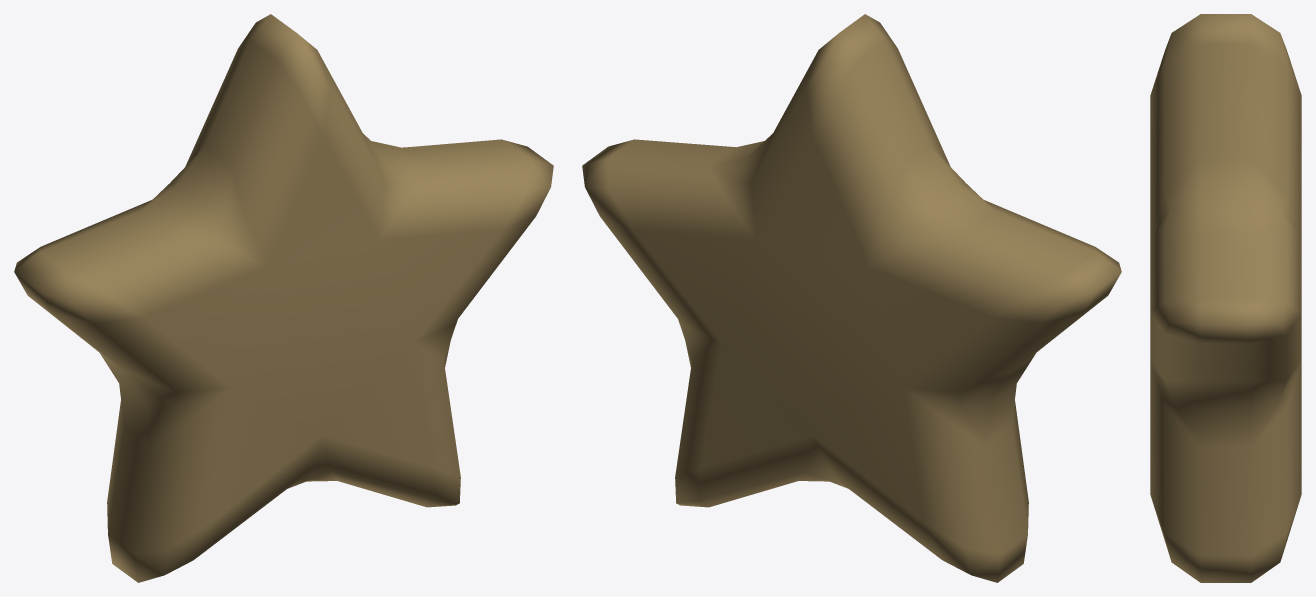
File: property_upgrade_star_atelier.glb
The picture shows the model from 3 angles, left to right: view 1: azimuth 30°, elevation 25°; view 2: azimuth 150°, elevation 25°; view 3: azimuth 270°, elevation 25°; orthographic projection. The views are drawn at different scales.
Visible parts, largest first — view 1: property_upgrade_star_atelier__Painted_property_upgrade_star; view 2: property_upgrade_star_atelier__Painted_property_upgrade_star; view 3: property_upgrade_star_atelier__Painted_property_upgrade_star.
Part boxes in pixels (bbox=[...]): property_upgrade_star_atelier__Painted_property_upgrade_star: bbox=[14, 14, 553, 582]; property_upgrade_star_atelier__Painted_property_upgrade_star: bbox=[582, 14, 1121, 582]; property_upgrade_star_atelier__Painted_property_upgrade_star: bbox=[1150, 14, 1301, 582].
Size of the model in its own units: 0.2838 by 0.2699 by 0.075.
